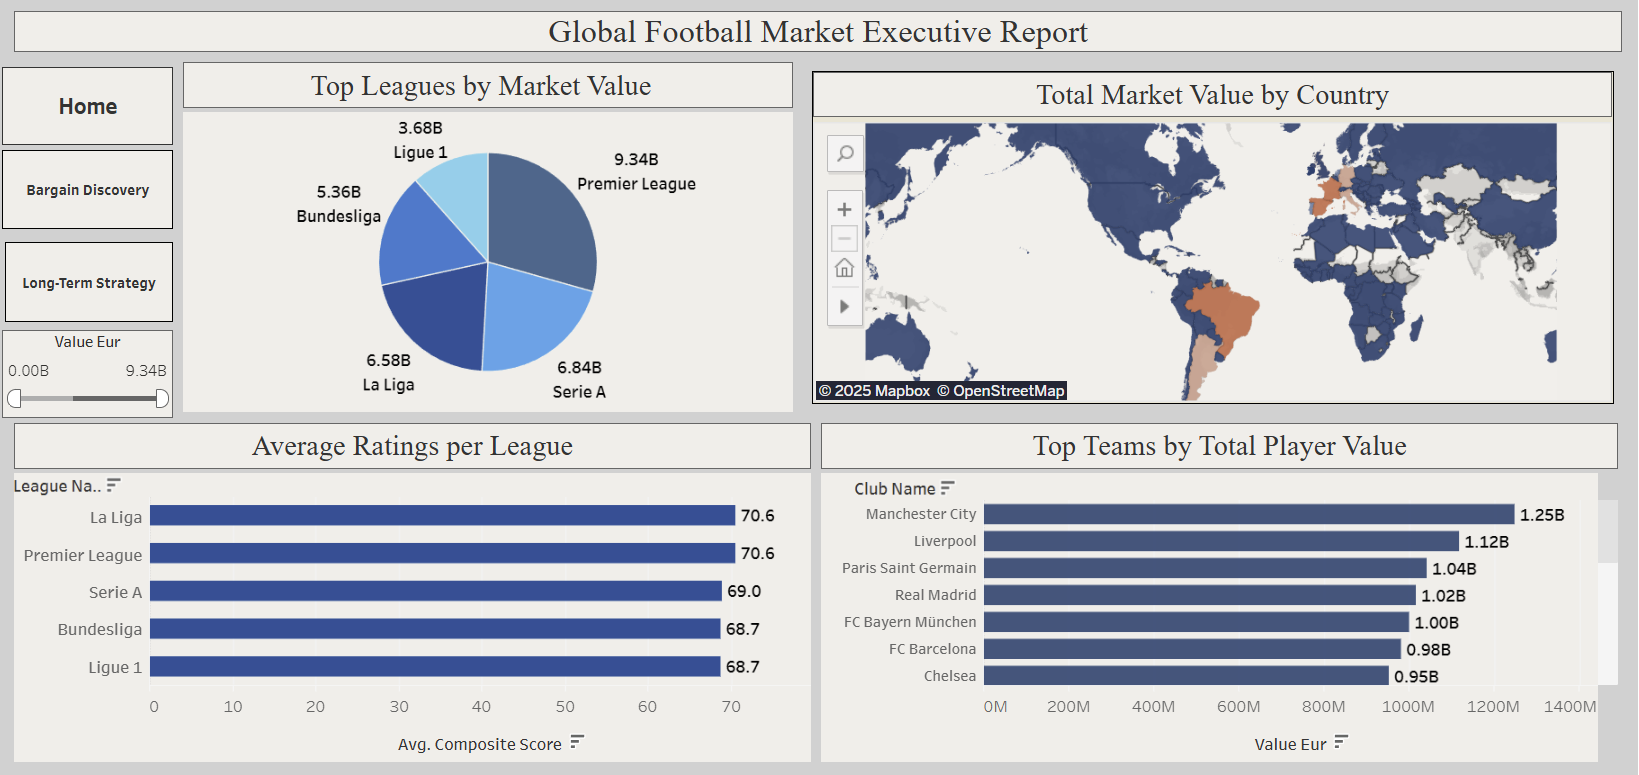

The dashboard page shown, as its layout file describes it:
{"tool":"tableau","page":{"name":"Global Market Landscape","canvas":[1000,1000],"units":"permille","ordinal":1},"visuals":[{"type":"title","box":[5,8.9,990,62.1]},{"type":"blank","box":[5,71,102.9,467.4]},{"type":"worksheet","title":"top 5 leagues","mark":"Pie","box":[107.9,71,379.9,467.4]},{"type":"worksheet","title":"Best Countries by Player Value","mark":"Automatic","box":[487.8,71,507.2,467.4]},{"type":"dashboard-object","box":[3.1,75.4,104.2,98.7]},{"type":"dashboard-object","box":[3.1,188.5,104.2,98.7]},{"type":"dashboard-object","box":[3.7,302.7,102.9,99.8]},{"type":"filter","title":"Best Teams","param":"[federated.1mq9jqk117321o12laxuu18yrupv].[sum:value_eur:qk]","box":[4.3,414.6,102.3,98.7]},{"type":"worksheet","title":"Average Ratings per League","mark":"Bar","rows":["league_name"],"cols":["composite_score"],"box":[5,538.4,493.7,452.7]},{"type":"worksheet","title":"Best Teams","mark":"Automatic","rows":["club_name"],"cols":["value_eur"],"box":[498.7,538.4,496.3,452.7]}]}

Visuals, with their boxes on the dashboard's canvas, which has no fixed pixel size, in thousandths of its width and height (x1, y1, x2, y2). These are canvas units, not pixel positions in the 1639x775 screenshot, which may show the page scaled, cropped or inside an application window:
title: (x1=5, y1=9, x2=995, y2=71)
blank: (x1=5, y1=71, x2=108, y2=538)
"top 5 leagues" worksheet (Pie marks): (x1=108, y1=71, x2=488, y2=538)
"Best Countries by Player Value" worksheet: (x1=488, y1=71, x2=995, y2=538)
dashboard-object: (x1=3, y1=75, x2=107, y2=174)
dashboard-object: (x1=3, y1=188, x2=107, y2=287)
dashboard-object: (x1=4, y1=303, x2=107, y2=402)
"Best Teams" filter: (x1=4, y1=415, x2=107, y2=513)
"Average Ratings per League" worksheet (Bar marks): (x1=5, y1=538, x2=499, y2=991)
"Best Teams" worksheet: (x1=499, y1=538, x2=995, y2=991)
